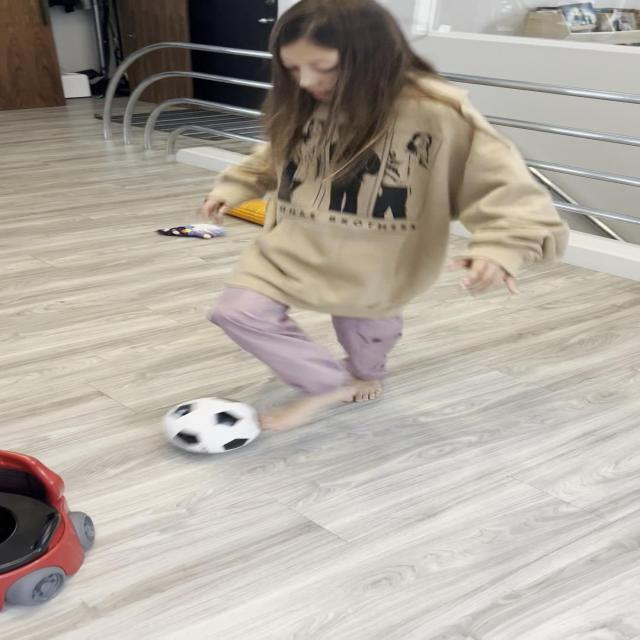Soccer Ball: (162, 396, 262, 455)
